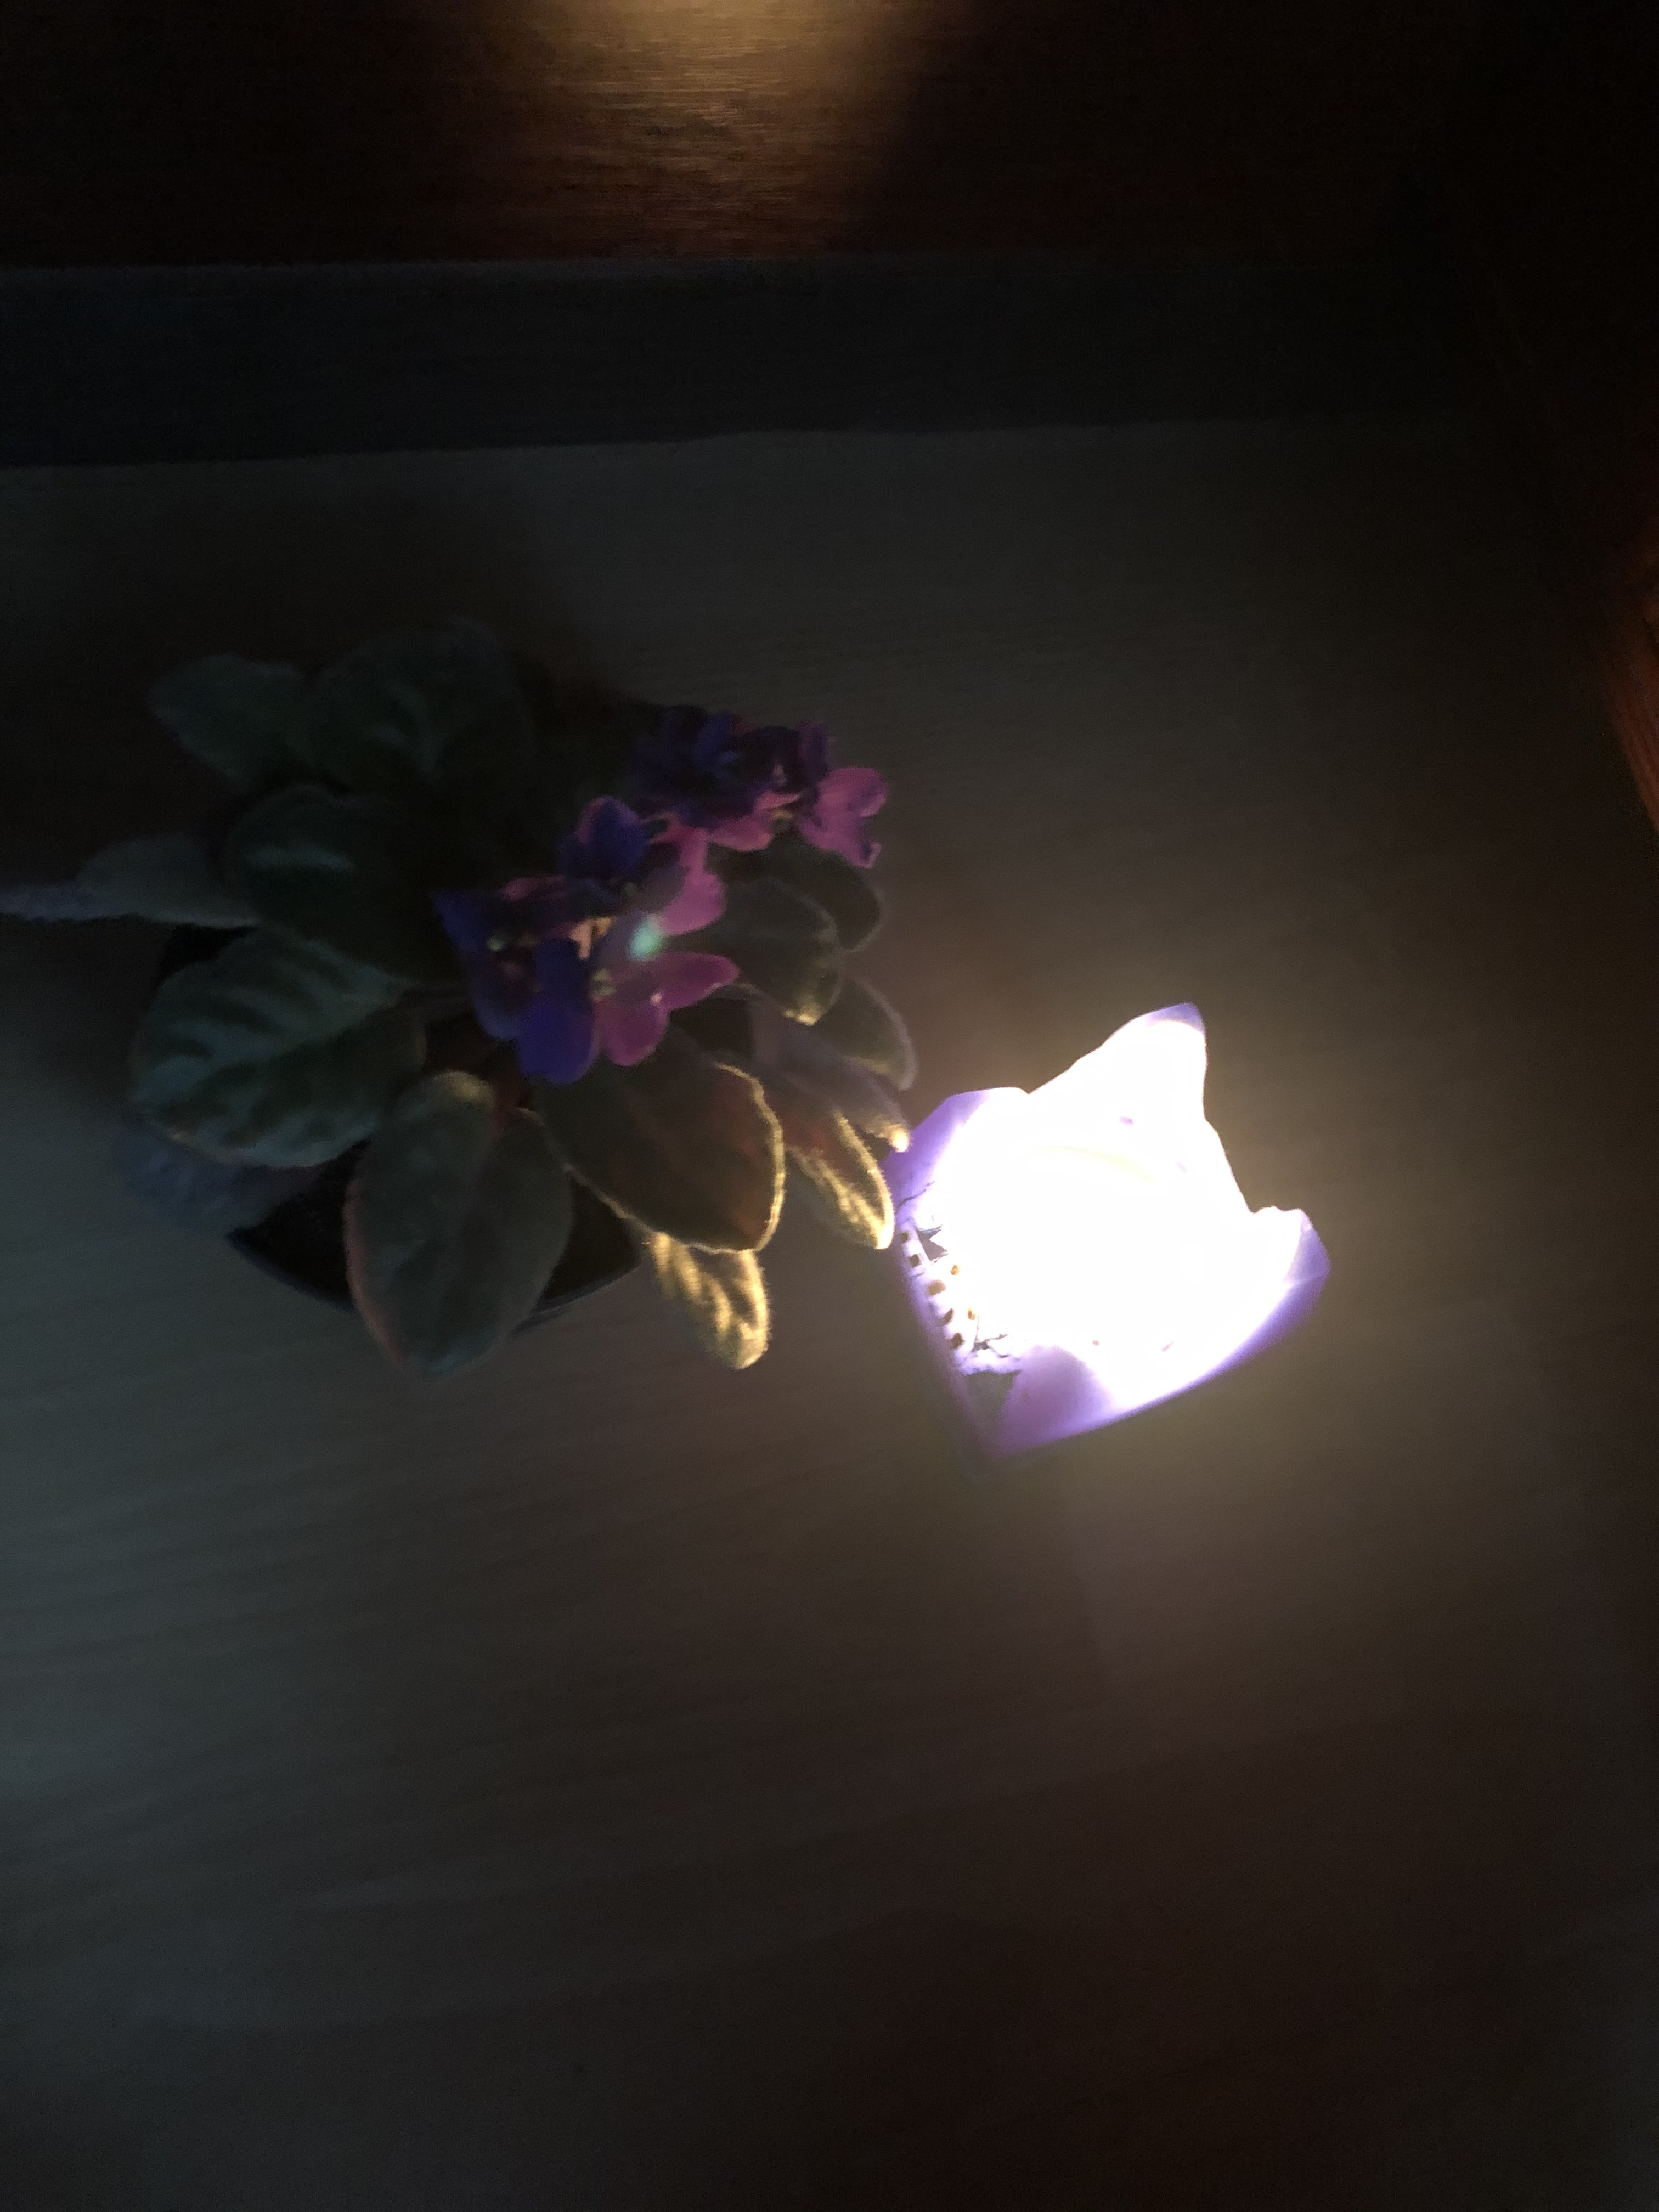ignore: (64, 592, 931, 1345)
